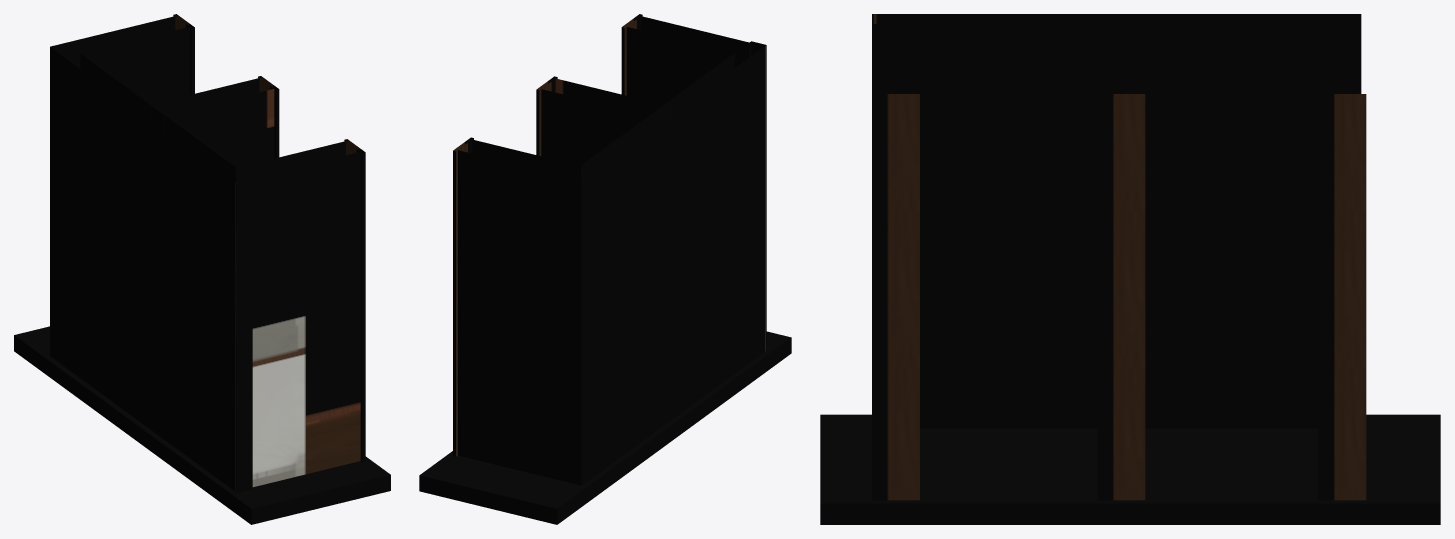
3 renders of one model, left to right at view 1: azimuth 30°, elevation 25°; view 2: azimuth 150°, elevation 25°; view 3: azimuth 270°, elevation 25°, orthographic. The views are drawn at different scales.
Bounding box in the file's own units: 0.4397 × 0.98 × 1.29.
